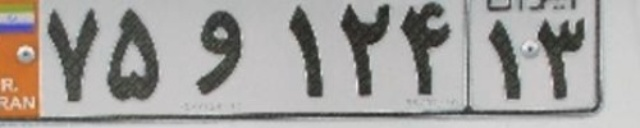1: (286, 6, 325, 97), (485, 19, 523, 100)
2: (337, 2, 390, 97)
3: (535, 16, 586, 99)
4: (397, 1, 452, 96)
5: (105, 6, 161, 101)
7: (43, 6, 99, 102)
vav: (190, 10, 245, 94)
